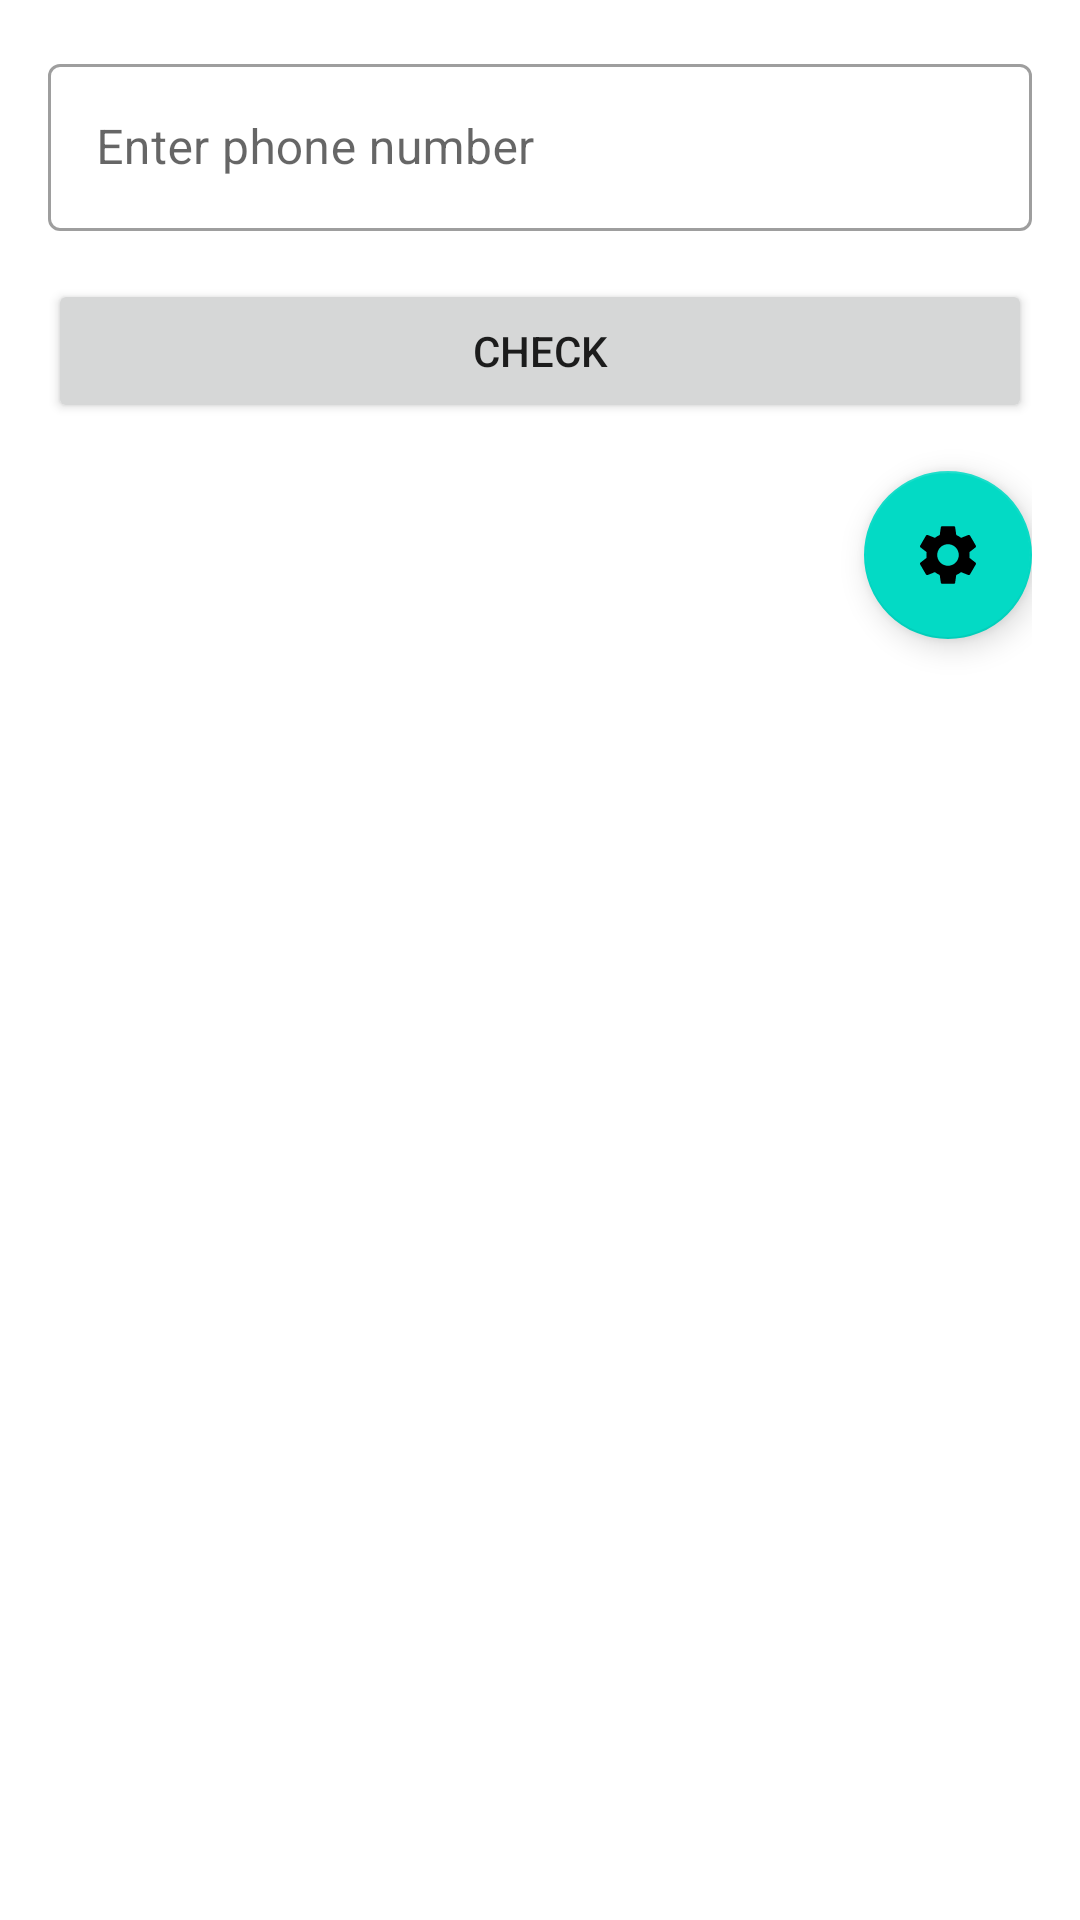

Icons on this 1080*1920 Android screen, each with the point to tap as [x,y]:
Settings: [948,555]
